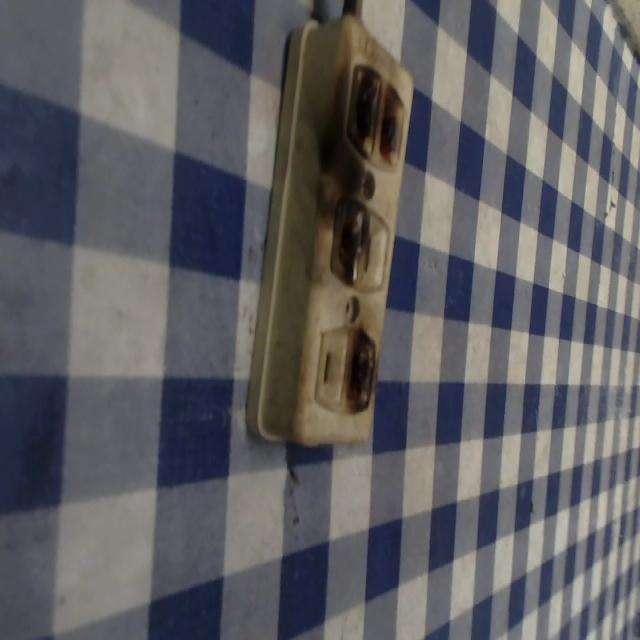-: (345, 56, 407, 169), (324, 191, 367, 288), (344, 317, 376, 411)
